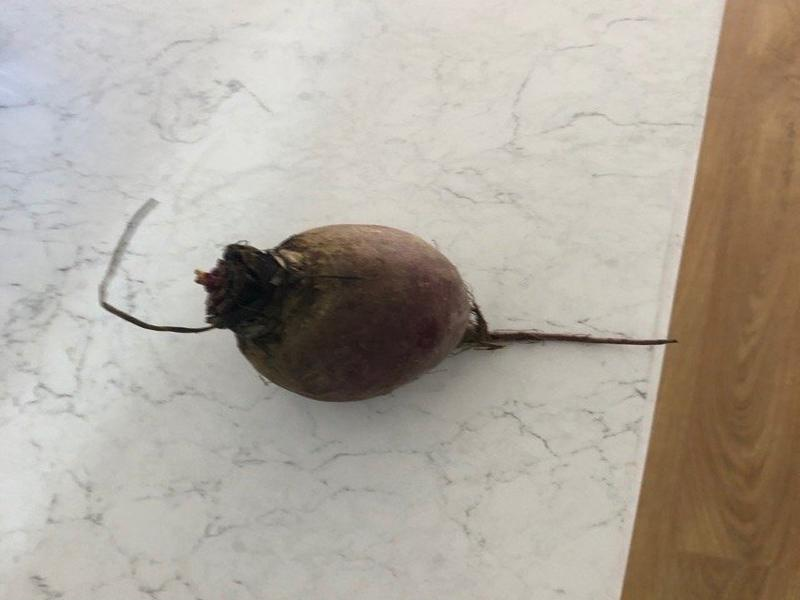Beet: (101, 200, 679, 401)
